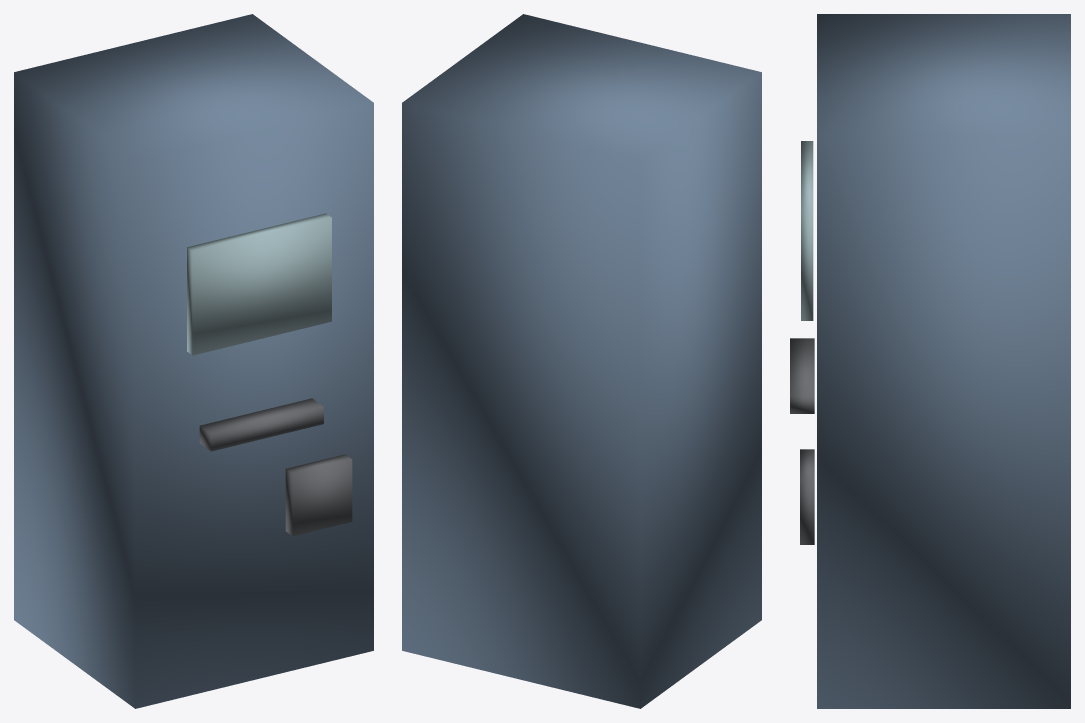
File: ticket_vending_machine__deep.glb
3 views of the same model, side by side, from view 1: azimuth 30°, elevation 25°; view 2: azimuth 150°, elevation 25°; view 3: azimuth 270°, elevation 25° (orthographic). The views are drawn at different scales.
Visible parts, largest first — view 1: world; view 2: world; view 3: world.
Part boxes in pixels (x1,y1,x2,y2): world: (14, 14, 373, 708); world: (402, 14, 761, 708); world: (790, 14, 1070, 708).
Bounding box in the file's own units: 0.72 × 1.58 × 0.7015.
